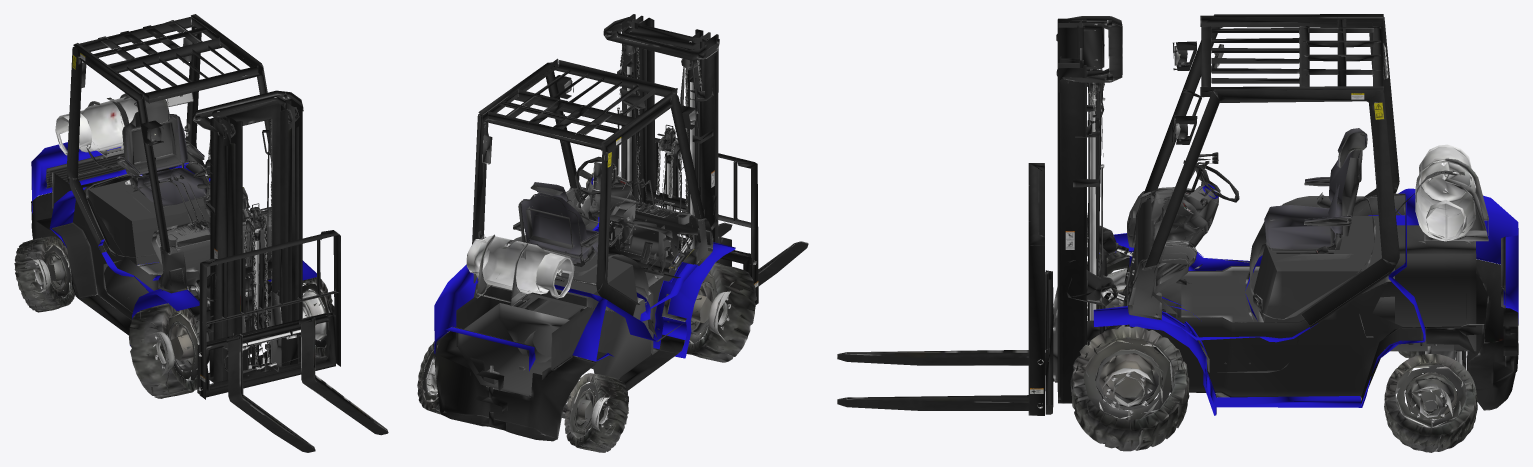
Rendered from vehicle_forklift_blue_c01.glb.
3 renders of one model, left to right at view 1: azimuth 30°, elevation 25°; view 2: azimuth 150°, elevation 25°; view 3: azimuth 270°, elevation 25°, orthographic. The views are drawn at different scales.
Size of what is drawn, in the model's own units: 1.36 by 2.17 by 3.73.
9 materials, 8 textured.
